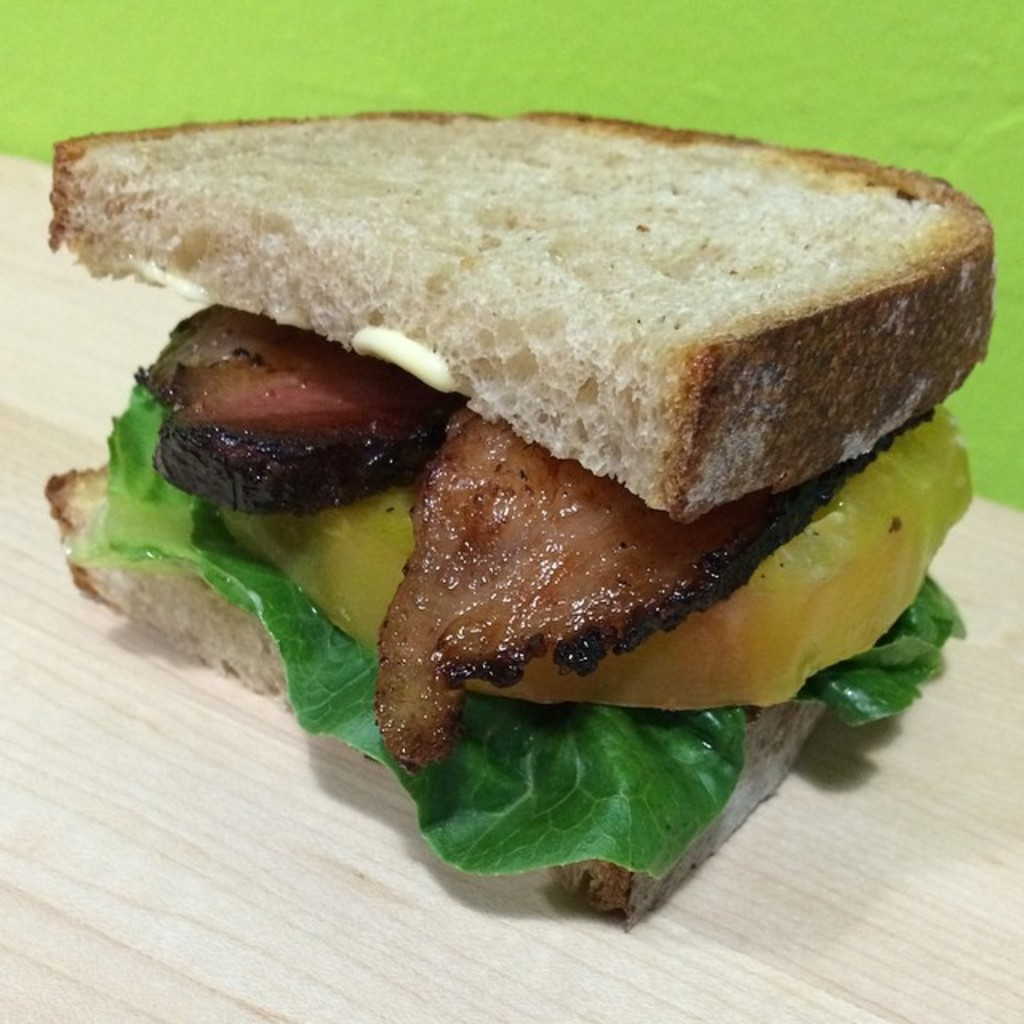sandwich: (46, 104, 1006, 915)
